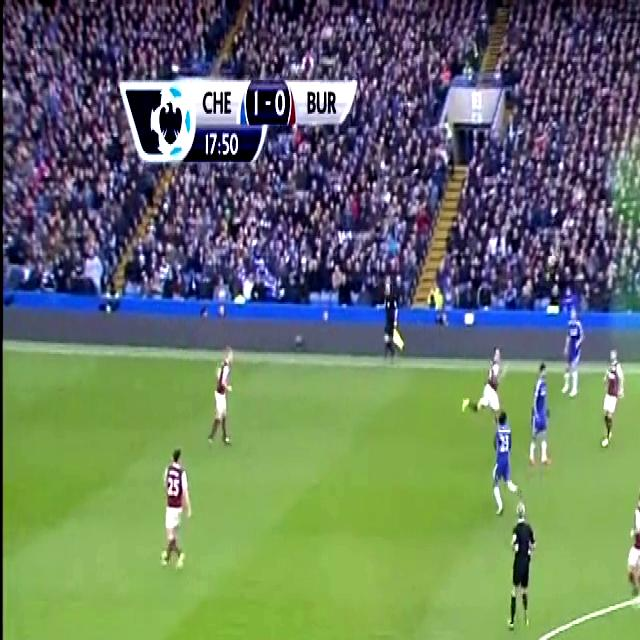referee: (507, 496, 540, 634), (380, 280, 408, 362)
soccer-player: (157, 442, 196, 581), (204, 336, 239, 452), (456, 338, 506, 419), (596, 344, 628, 450), (488, 409, 518, 517), (529, 356, 554, 466), (621, 484, 640, 624), (564, 296, 584, 395)
